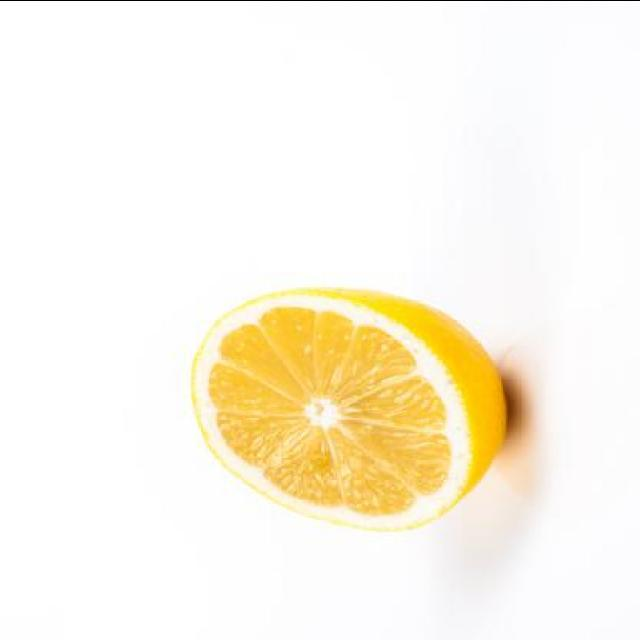Lemon: (190, 284, 514, 533)
